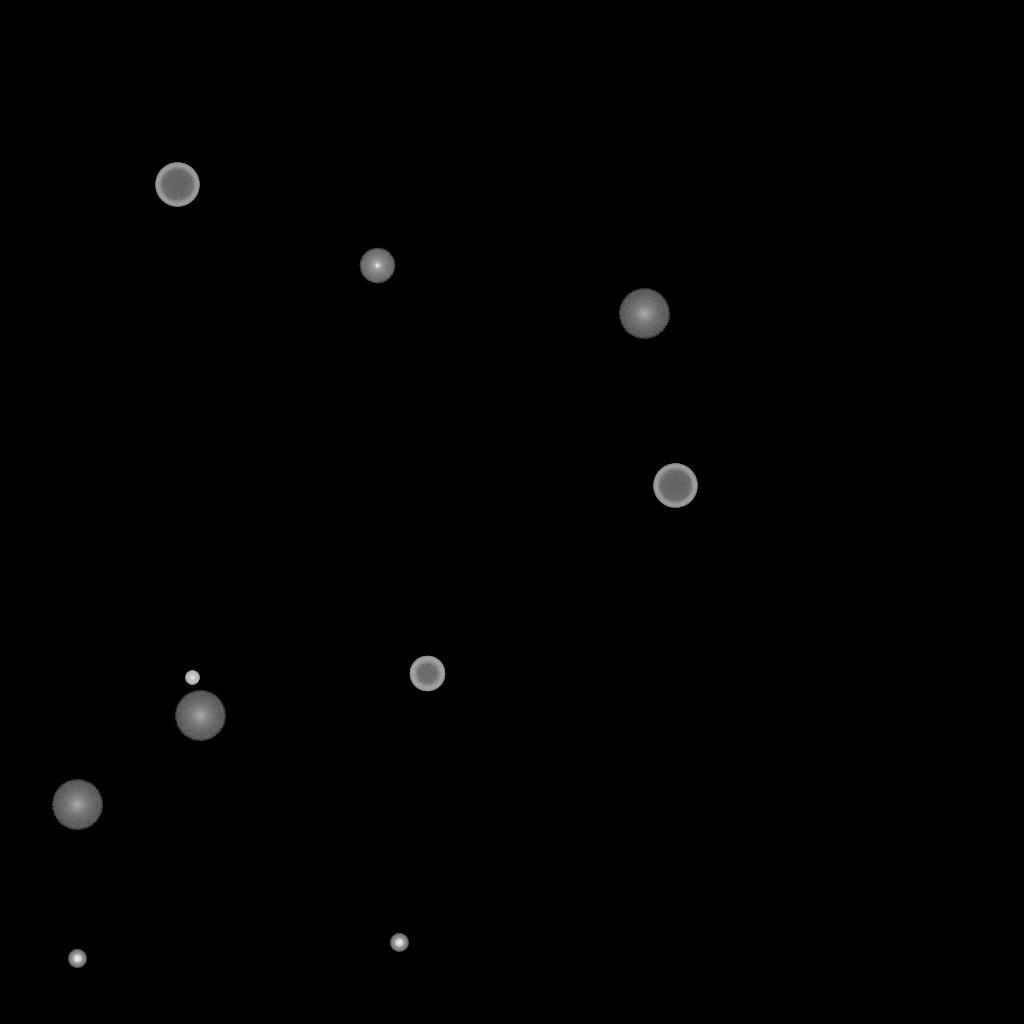depth:-20: (390, 934, 408, 952), (68, 950, 86, 968)
depth:-30: (185, 671, 199, 685)
depth:-60: (409, 656, 445, 692)
depth:-70: (155, 163, 199, 207), (653, 464, 697, 508)
depth:0: (359, 248, 395, 284)
depth:20: (618, 289, 670, 339), (174, 691, 226, 741), (51, 780, 103, 830)
